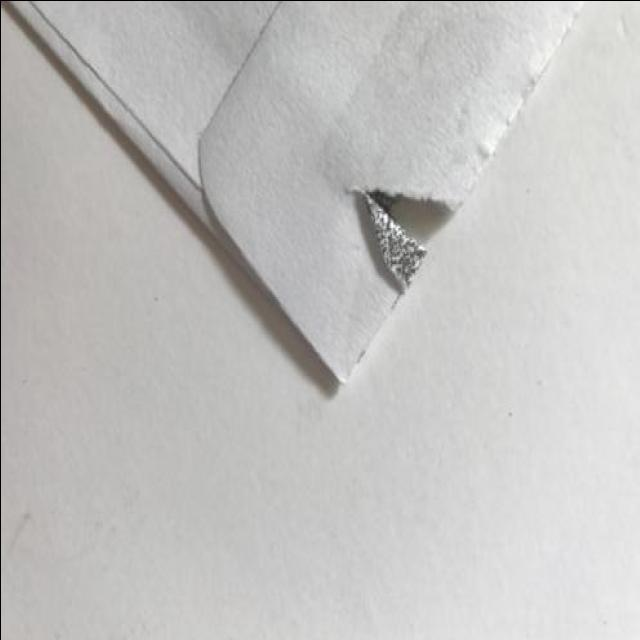kertas: (0, 0, 589, 383)
